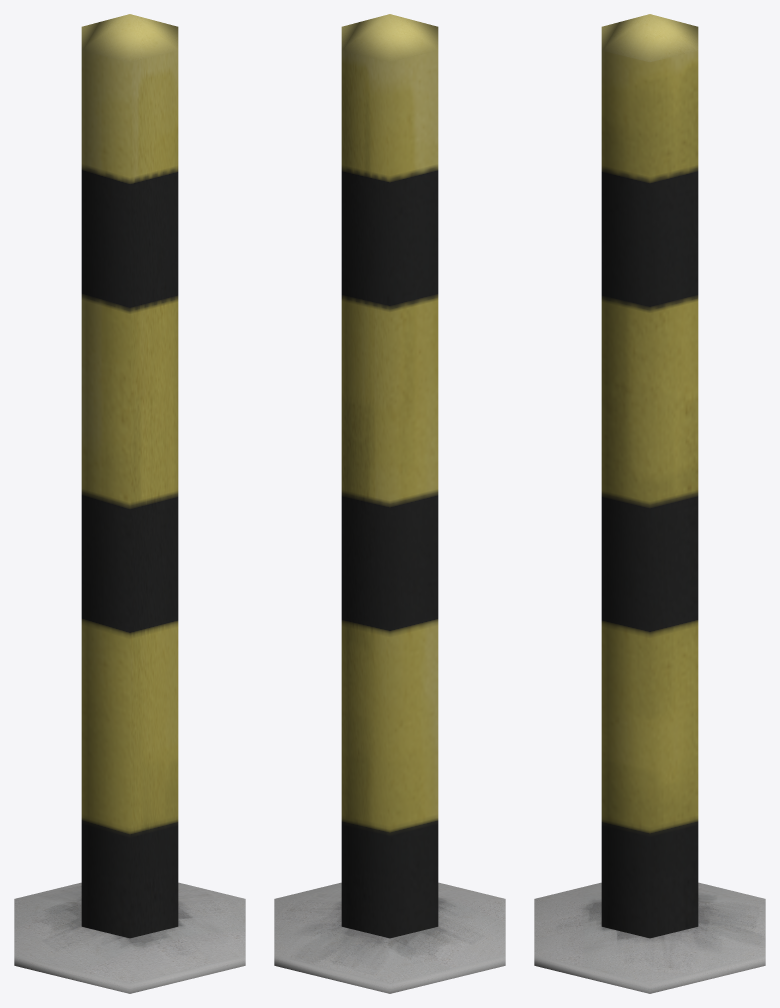
Rendered from Object_Road_Barrier_Yellow.fbx.
3 views of the same model, side by side, from view 1: azimuth 30°, elevation 25°; view 2: azimuth 150°, elevation 25°; view 3: azimuth 270°, elevation 25° (orthographic).
Visible parts, largest first — view 1: polySurface2; view 2: polySurface2; view 3: polySurface2.
Part boxes in pixels (x1,y1,x2,y2): polySurface2: (14, 14, 245, 993); polySurface2: (274, 14, 505, 993); polySurface2: (534, 14, 765, 993).
Size of the model in its own units: 24.04 by 91.74 by 20.82.
